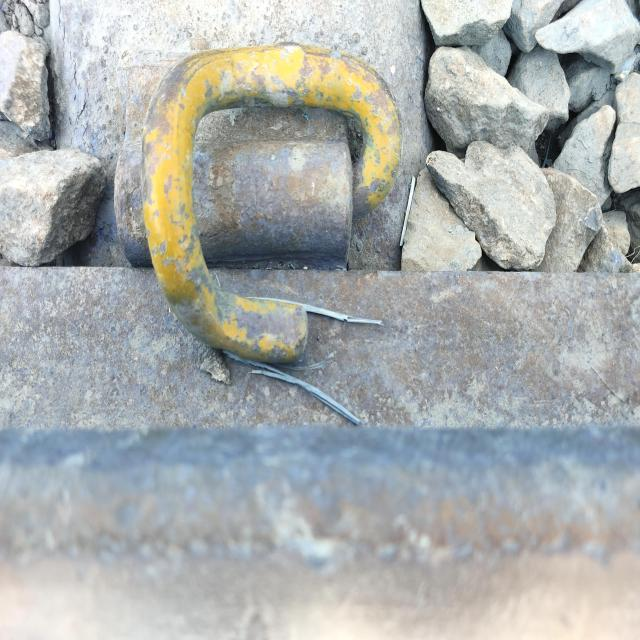Good Fasteners: (102, 37, 413, 377)
